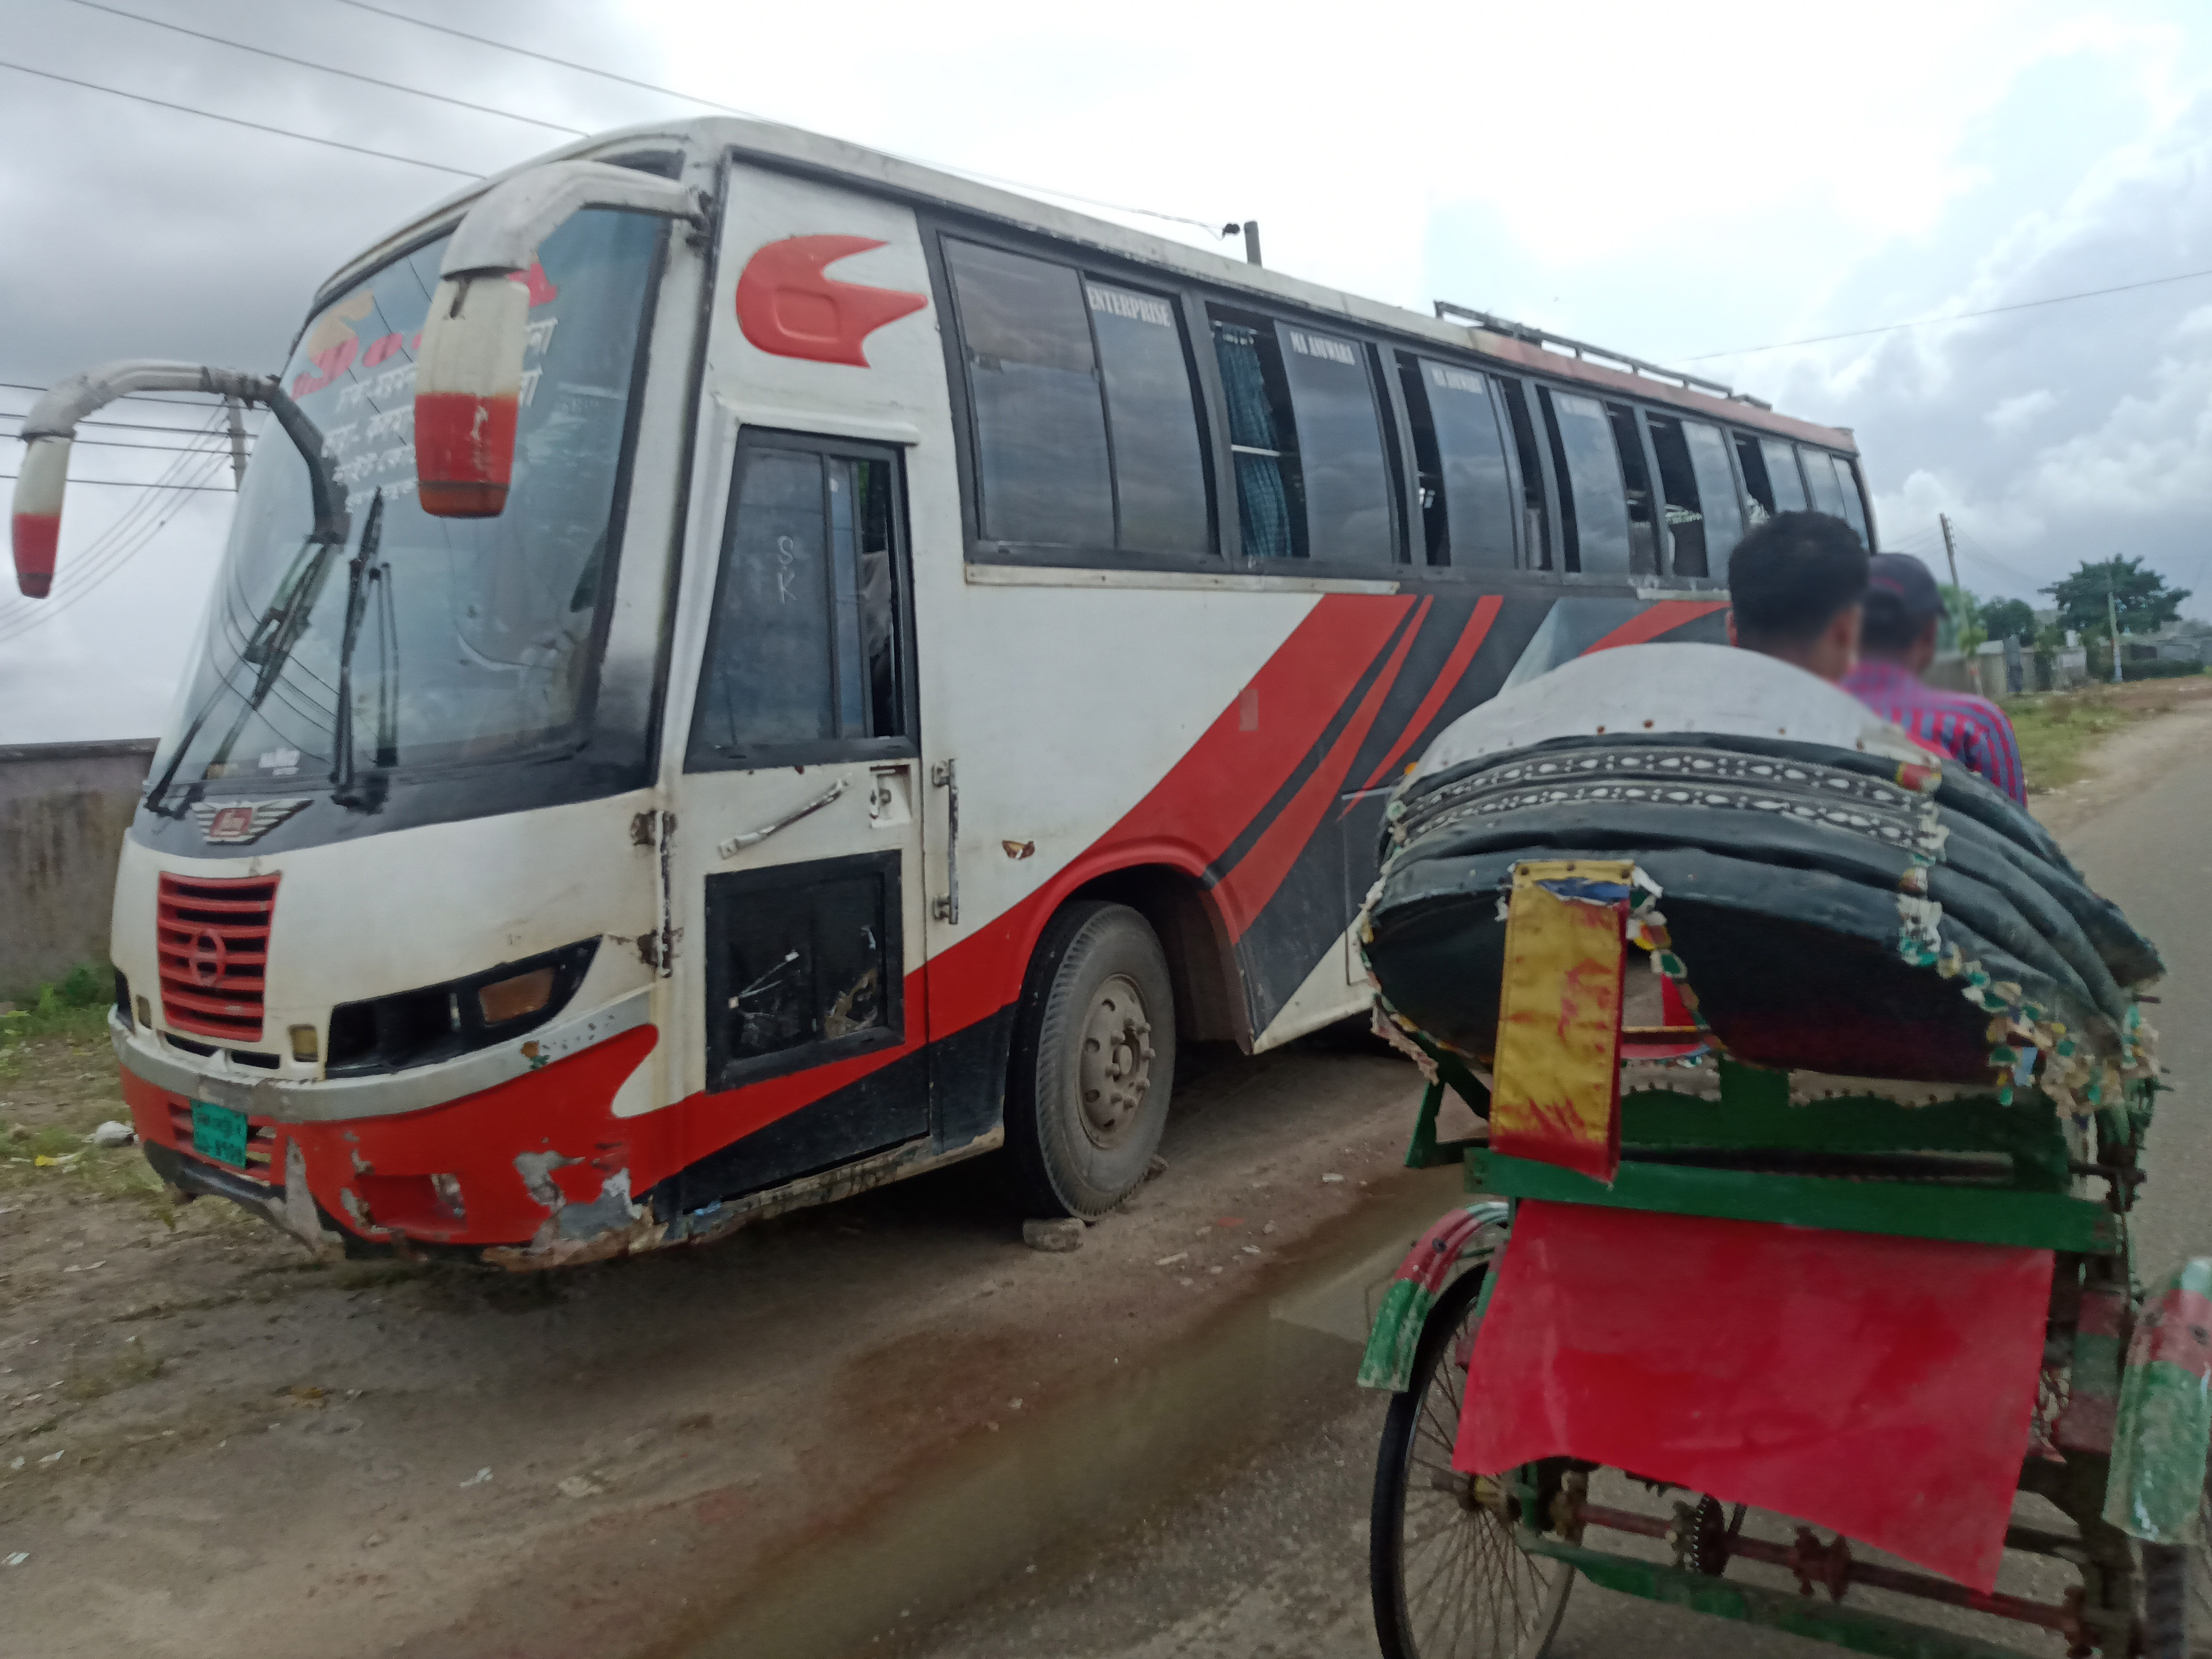bus: (5, 105, 1890, 1284)
rickshaw: (1339, 629, 2209, 1659)
